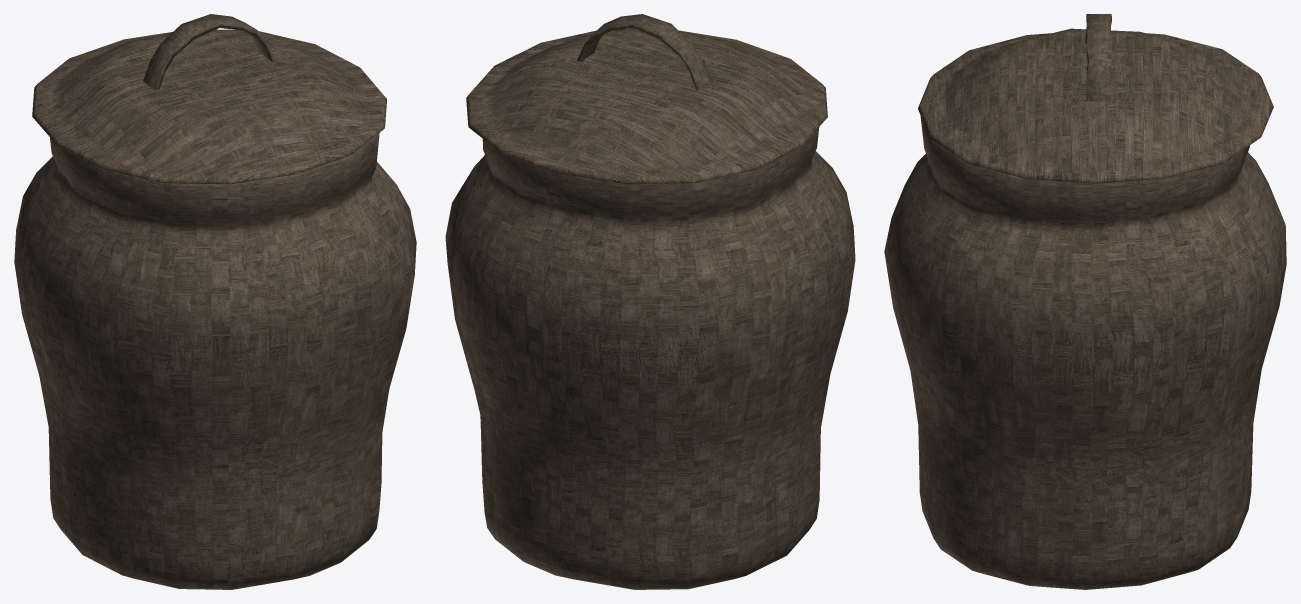
Rendered from SM_basket05.fbx.
3 renders of one model, left to right at view 1: azimuth 30°, elevation 25°; view 2: azimuth 150°, elevation 25°; view 3: azimuth 270°, elevation 25°, orthographic.
Parts seen in each view (by area): view 1: SM_basket05_LOD0; view 2: SM_basket05_LOD0; view 3: SM_basket05_LOD0.
Boxes of the visible parts, x1=… form: SM_basket05_LOD0: x1=14, y1=14, x2=416, y2=589; SM_basket05_LOD0: x1=445, y1=14, x2=855, y2=589; SM_basket05_LOD0: x1=884, y1=14, x2=1286, y2=589.
Bounding box in the file's own units: 33.36 × 33.22 × 47.55.
